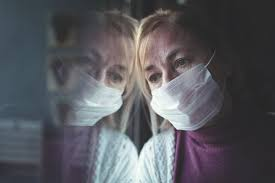flumask: (151, 66, 221, 135)
